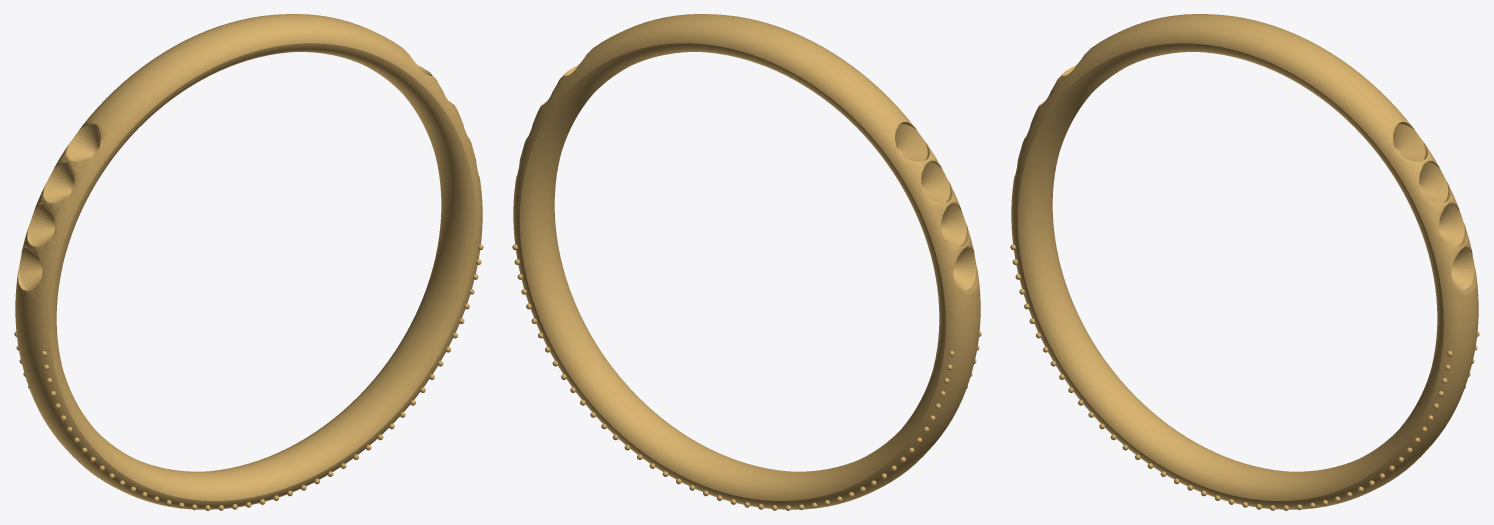
Rendered from vintage-flush-accents-head.glb.
3 views of the same model, side by side, from view 1: azimuth 30°, elevation 25°; view 2: azimuth 150°, elevation 25°; view 3: azimuth 330°, elevation 25° (orthographic).
Visible parts, largest first — view 1: Band; view 2: Band; view 3: Band.
Part boxes in pixels (x1,y1,x2,y2): Band: [15, 14, 482, 509]; Band: [513, 14, 980, 509]; Band: [1011, 14, 1478, 509].
Bounding box in the file's own units: 19.6 × 19.6 × 2.22.
